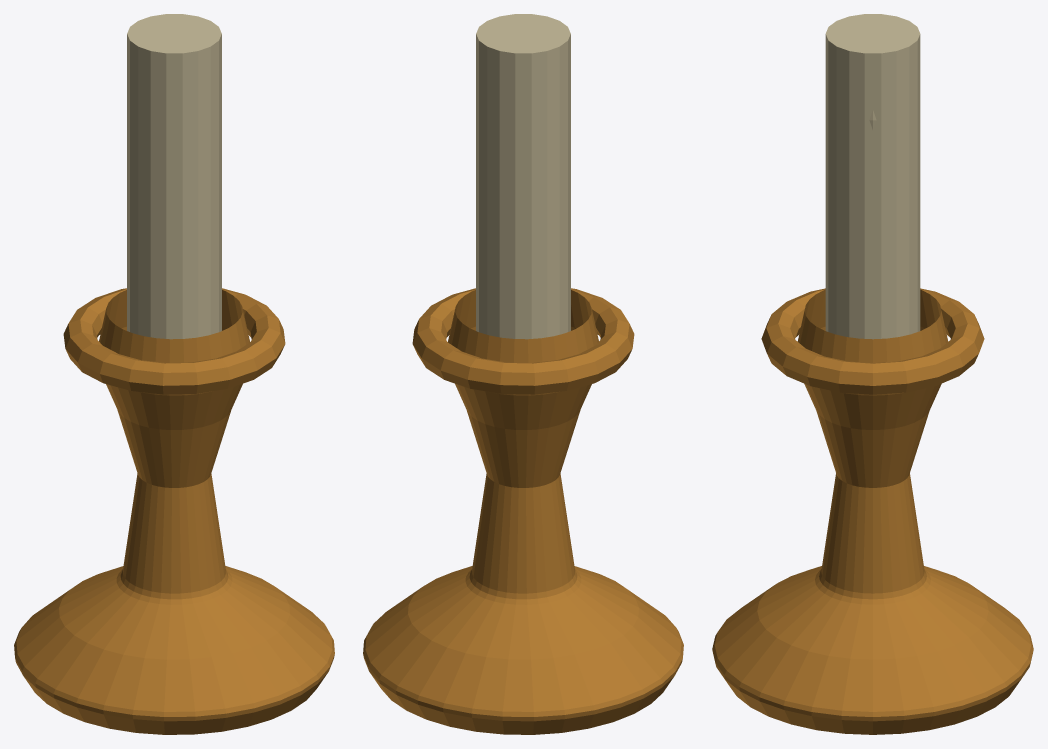
The model's file is brass-candlestick.glb.
The picture shows the model from 3 angles, left to right: view 1: azimuth 30°, elevation 25°; view 2: azimuth 150°, elevation 25°; view 3: azimuth 270°, elevation 25°; orthographic projection.
Visible parts, largest first — view 1: CandlestickTurnedBrass, Candle, CandlestickDripPan; view 2: CandlestickTurnedBrass, Candle, CandlestickDripPan; view 3: CandlestickTurnedBrass, Candle, CandlestickDripPan.
Boxes of the visible parts, x1=… form: CandlestickTurnedBrass: x1=14, y1=290, x2=334, y2=734; Candle: x1=127, y1=14, x2=221, y2=339; CandlestickDripPan: x1=63, y1=288, x2=285, y2=394; CandlestickTurnedBrass: x1=363, y1=290, x2=683, y2=734; Candle: x1=476, y1=14, x2=570, y2=339; CandlestickDripPan: x1=412, y1=288, x2=634, y2=394; CandlestickTurnedBrass: x1=712, y1=289, x2=1033, y2=734; Candle: x1=825, y1=14, x2=920, y2=339; CandlestickDripPan: x1=761, y1=288, x2=984, y2=394.
Size of the model in its own units: 0.3056 by 0.67 by 0.3056.
